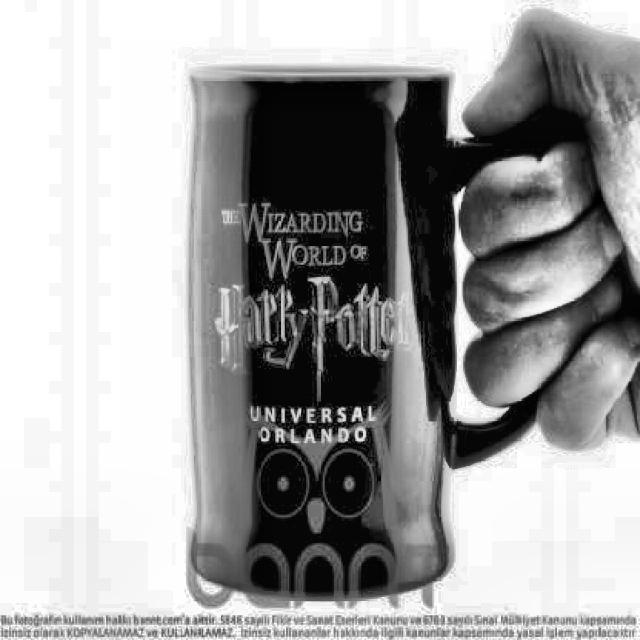Mug: (183, 62, 546, 603)
